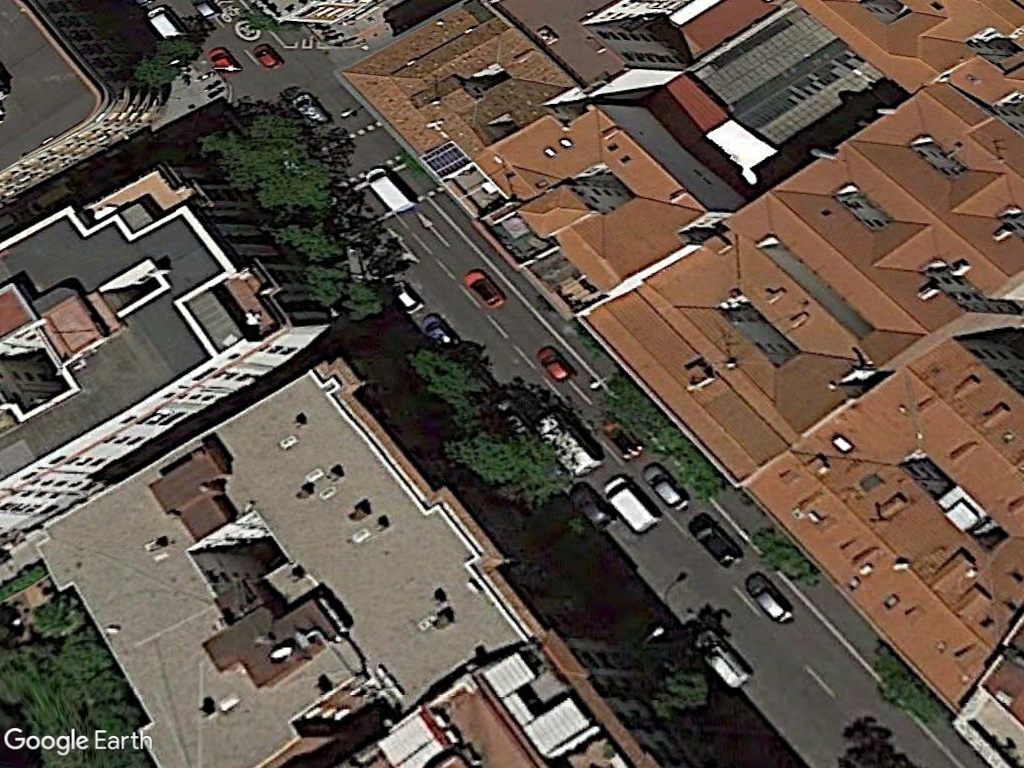truck: (598, 470, 662, 537), (360, 164, 415, 216)
